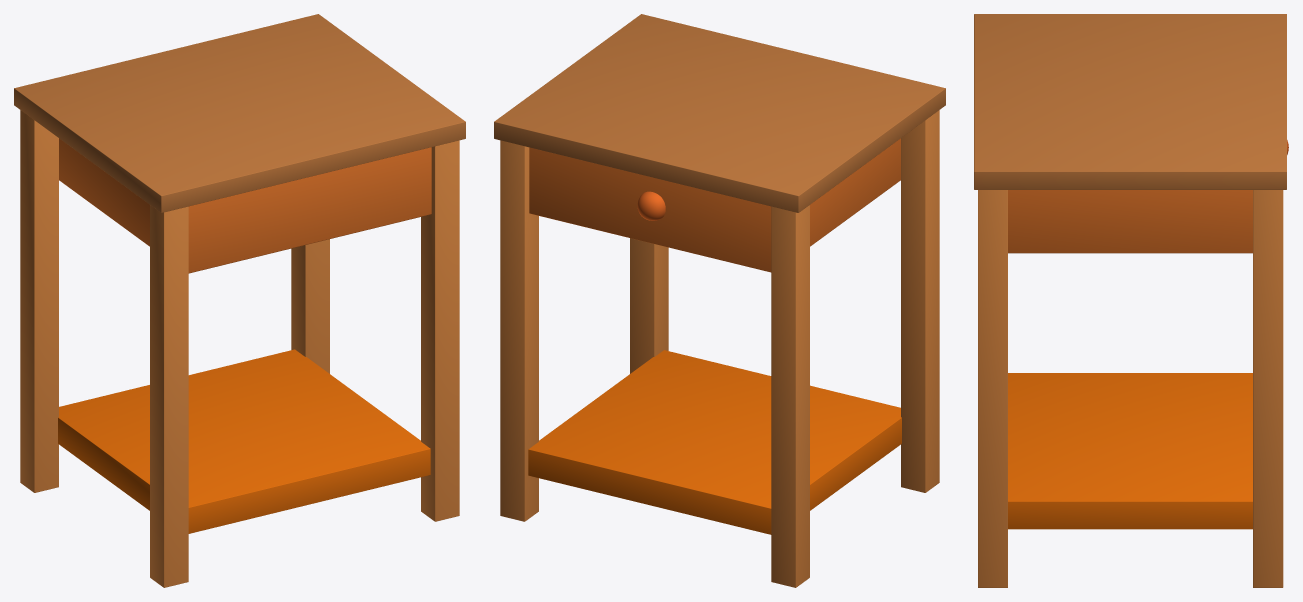
The model's file is CruzTableAssignment4.fbx.
3 views of the same model, side by side, from view 1: azimuth 30°, elevation 25°; view 2: azimuth 150°, elevation 25°; view 3: azimuth 270°, elevation 25° (orthographic). The views are drawn at different scales.
Parts seen in each view (by area): view 1: Cube, Cube.001, Cube.002, Cube.003; view 2: Cube, Cube.001, Cube.002, Cube.003, Cube.004; view 3: Cube, Cube.002, Cube.001, Cube.003.
Part boxes in pixels (x1,y1,x2,y2): Cube: [14, 14, 465, 212]; Cube.001: [20, 110, 459, 587]; Cube.002: [58, 349, 430, 533]; Cube.003: [59, 138, 431, 273]; Cube: [494, 14, 945, 212]; Cube.001: [500, 110, 939, 587]; Cube.002: [528, 350, 901, 534]; Cube.003: [529, 138, 900, 272]; Cube.004: [637, 191, 665, 220]; Cube: [974, 14, 1286, 189]; Cube.002: [1008, 373, 1252, 529]; Cube.001: [978, 190, 1283, 587]; Cube.003: [1008, 190, 1252, 253].
Bounding box in the file's own units: 46.99 × 58.13 × 39.6.
